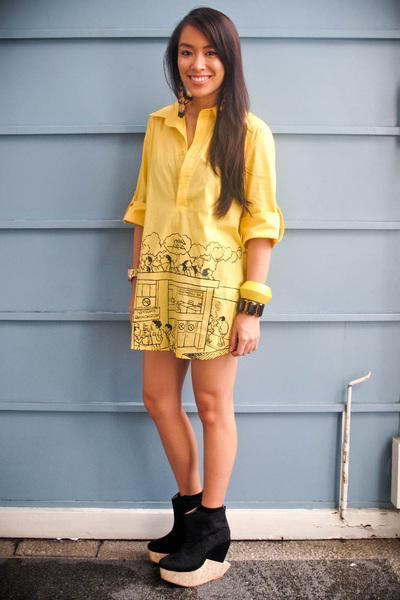dress: (120, 95, 292, 361)
